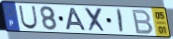8: (39, 5, 58, 31)
A: (66, 7, 88, 33)
B: (131, 9, 155, 35)
I: (116, 8, 125, 34)
U: (18, 4, 39, 30)
X: (83, 7, 108, 34)
